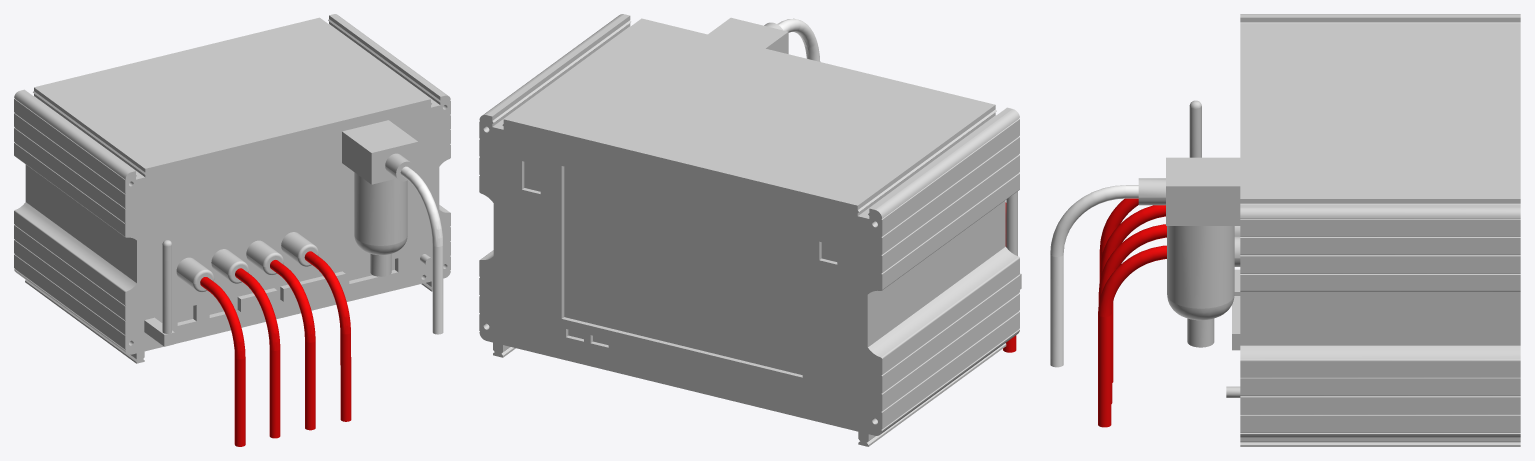
3 views of the same model, side by side, from view 1: azimuth 30°, elevation 25°; view 2: azimuth 150°, elevation 25°; view 3: azimuth 270°, elevation 25° (orthographic). The views are drawn at different scales.
Visible parts, largest first — view 1: KA100_3, 8mm_hortum, 8mm_hortum_3, 8mm_hortum_7, 8mm_hortum_9, 8mm_hortum_5; view 2: KA100_3, 8mm_hortum_9; view 3: KA100_3, 8mm_hortum_9, 8mm_hortum_7, 8mm_hortum_5, 8mm_hortum_3, 8mm_hortum.
Boxes of the visible parts, x1,y1,x2,y2 form: KA100_3: (14, 14, 450, 363); 8mm_hortum: (200, 277, 245, 446); 8mm_hortum_3: (235, 268, 280, 438); 8mm_hortum_7: (304, 251, 351, 421); 8mm_hortum_9: (400, 166, 443, 334); 8mm_hortum_5: (270, 260, 315, 430); KA100_3: (479, 14, 1021, 446); 8mm_hortum_9: (777, 18, 820, 61); KA100_3: (1138, 14, 1520, 446); 8mm_hortum_9: (1050, 185, 1138, 367); 8mm_hortum_7: (1098, 245, 1166, 427); 8mm_hortum_5: (1098, 224, 1166, 403); 8mm_hortum_3: (1100, 205, 1165, 382); 8mm_hortum: (1099, 198, 1138, 281).
Size of the model in its own units: 280 by 203 by 279.
